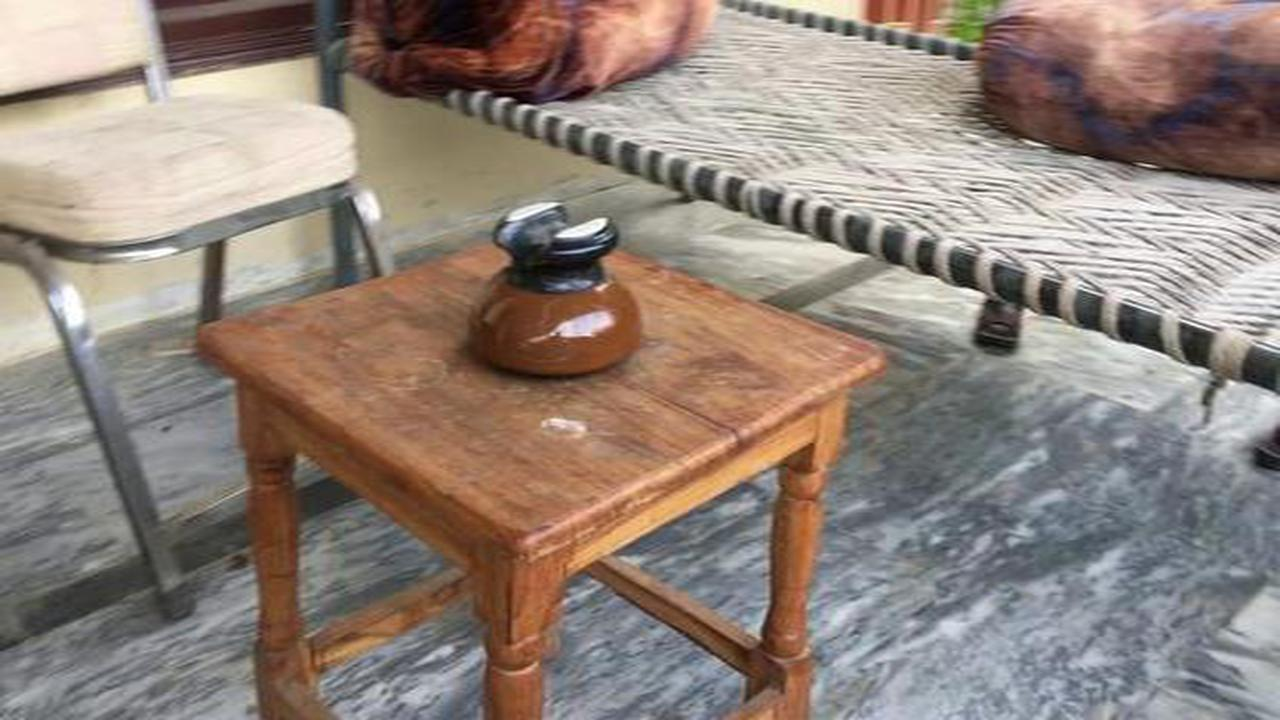insulator_pin: (453, 186, 659, 393)
